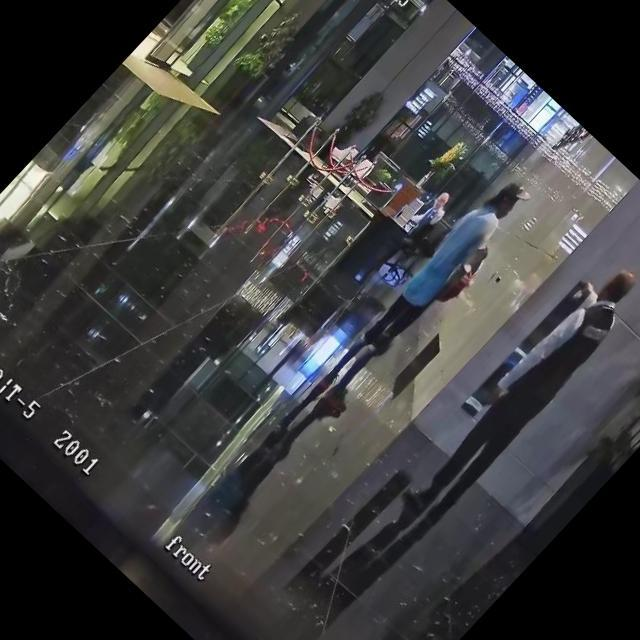person: (391, 253, 640, 530), (310, 170, 540, 412), (402, 186, 458, 244)
